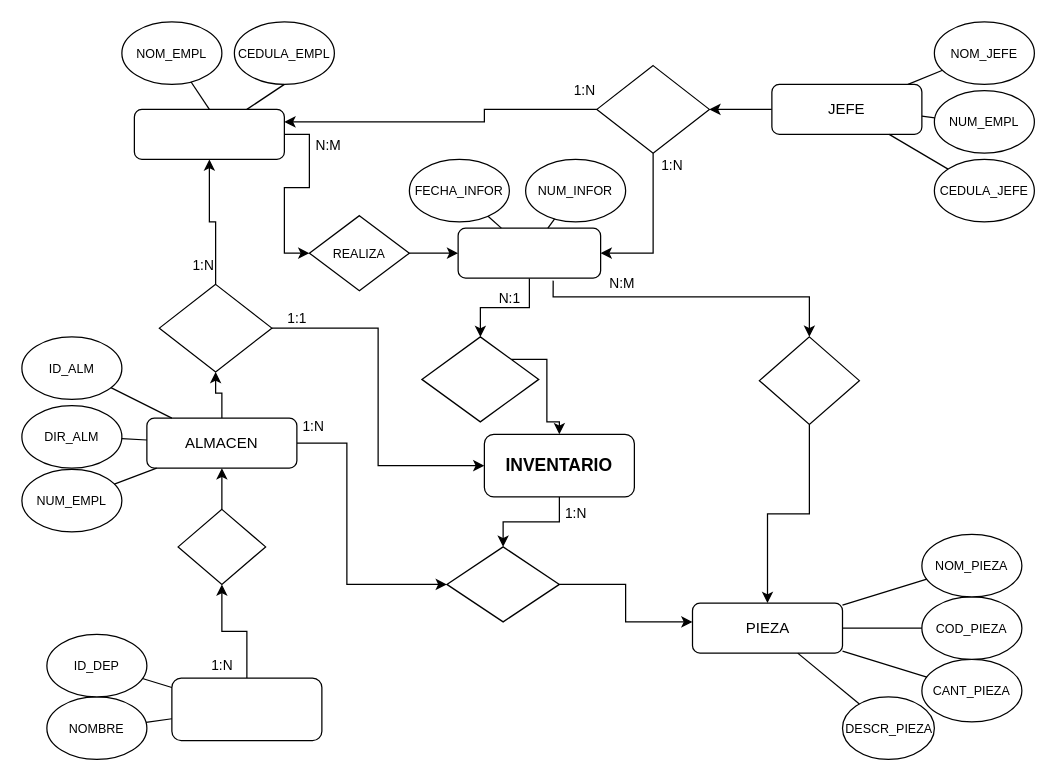
The diagram is 1056 pixels wide and 781 high, and some of its shapes have lost their labels. Each missing label, with the centre of its shape:
AUTORIZA: (x=652, y=108)
CONSTRUYE: (x=480, y=379)
CONTIENE: (x=502, y=584)
DEPARTAMENTO: (x=246, y=709)
EMPLEADO: (x=208, y=133)
INFORME: (x=529, y=252)
REGISTRA: (x=808, y=380)
REQUIERE: (x=215, y=327)
TIENE: (x=221, y=546)
